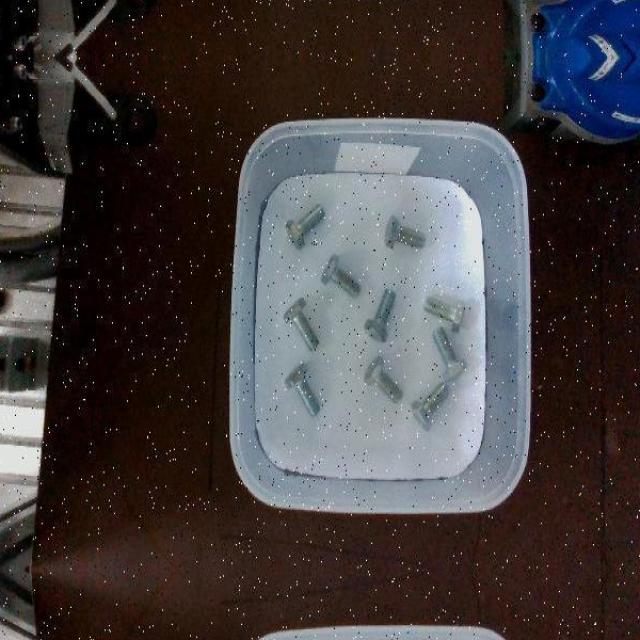screw: (431, 326, 467, 382), (283, 296, 319, 351), (284, 362, 320, 417), (364, 354, 403, 404), (412, 380, 451, 429), (320, 253, 361, 297), (285, 204, 325, 249), (364, 288, 396, 343), (424, 296, 467, 334), (384, 214, 427, 248)
